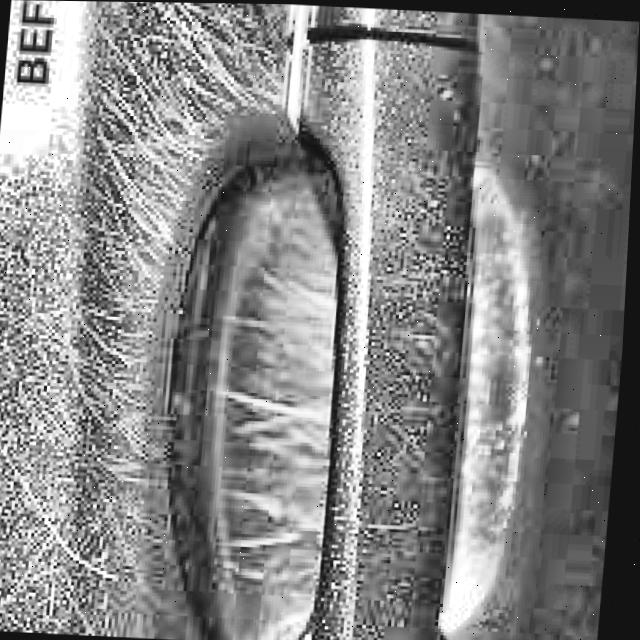door_scratch: (176, 235, 348, 634), (78, 1, 265, 312)
